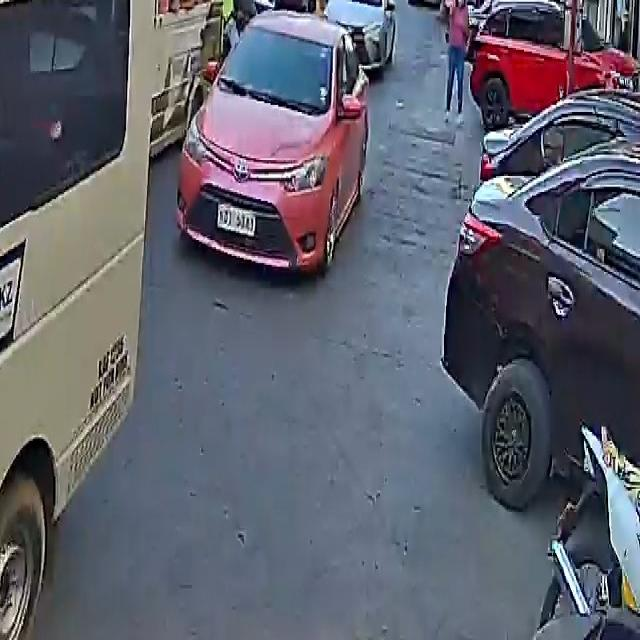car: (444, 128, 640, 533), (175, 10, 377, 276), (467, 0, 638, 132), (322, 0, 401, 75), (412, 0, 442, 21), (245, 0, 291, 12)
